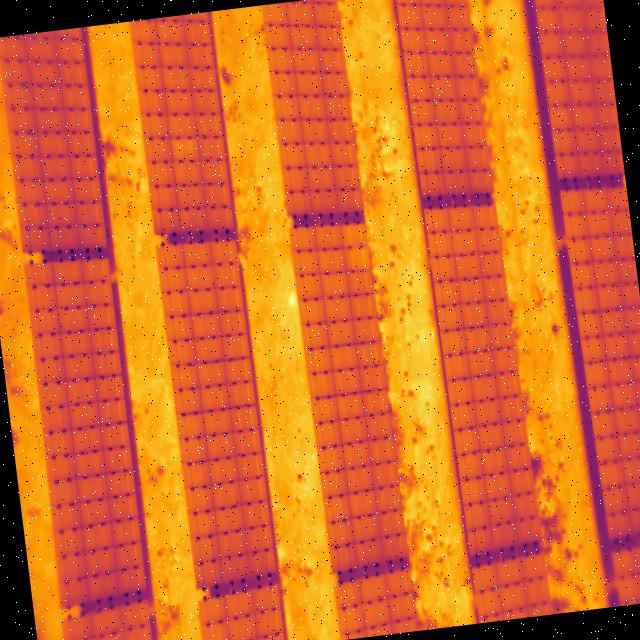Hotspot: (170, 134, 203, 166), (344, 248, 370, 272), (339, 224, 364, 248)
